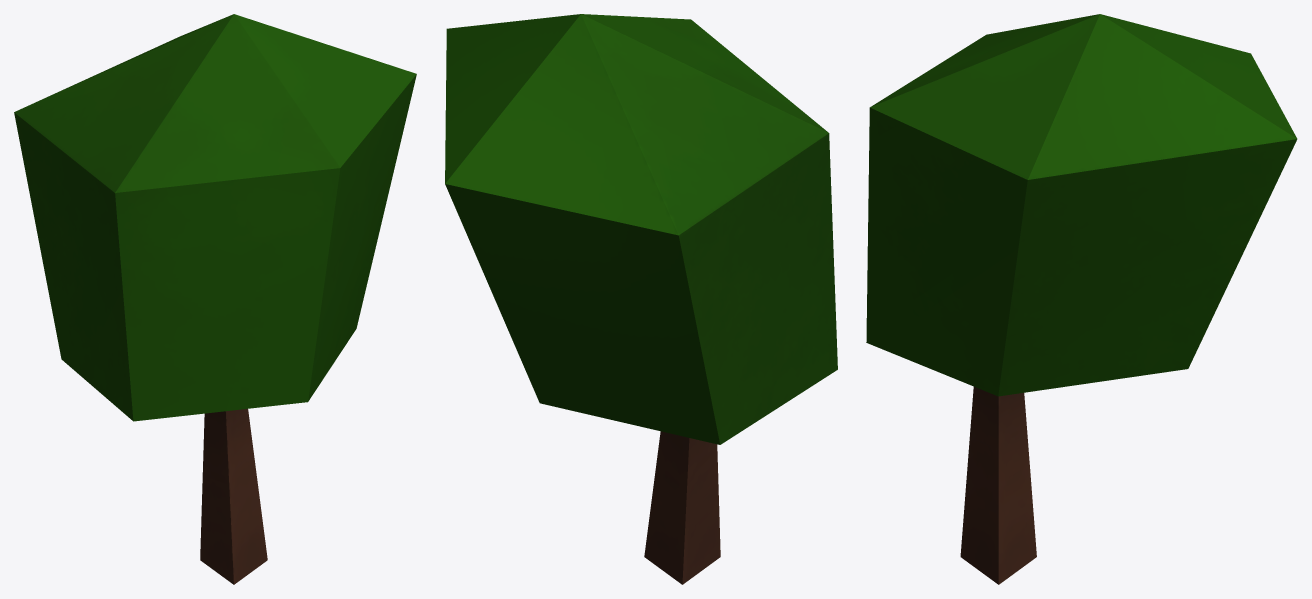
Rendered from Leave_tree_C5_02.FBX.
3 renders of one model, left to right at view 1: azimuth 30°, elevation 25°; view 2: azimuth 150°, elevation 25°; view 3: azimuth 270°, elevation 25°, orthographic. The views are drawn at different scales.
Parts seen in each view (by area): view 1: Leave_tree_C5_02; view 2: Leave_tree_C5_02; view 3: Leave_tree_C5_02.
Boxes of the visible parts, x1=… form: Leave_tree_C5_02: x1=14, y1=14, x2=416, y2=584; Leave_tree_C5_02: x1=445, y1=14, x2=837, y2=584; Leave_tree_C5_02: x1=866, y1=14, x2=1297, y2=584.
Size of the model in its own units: 27.95 by 28.84 by 42.6.
